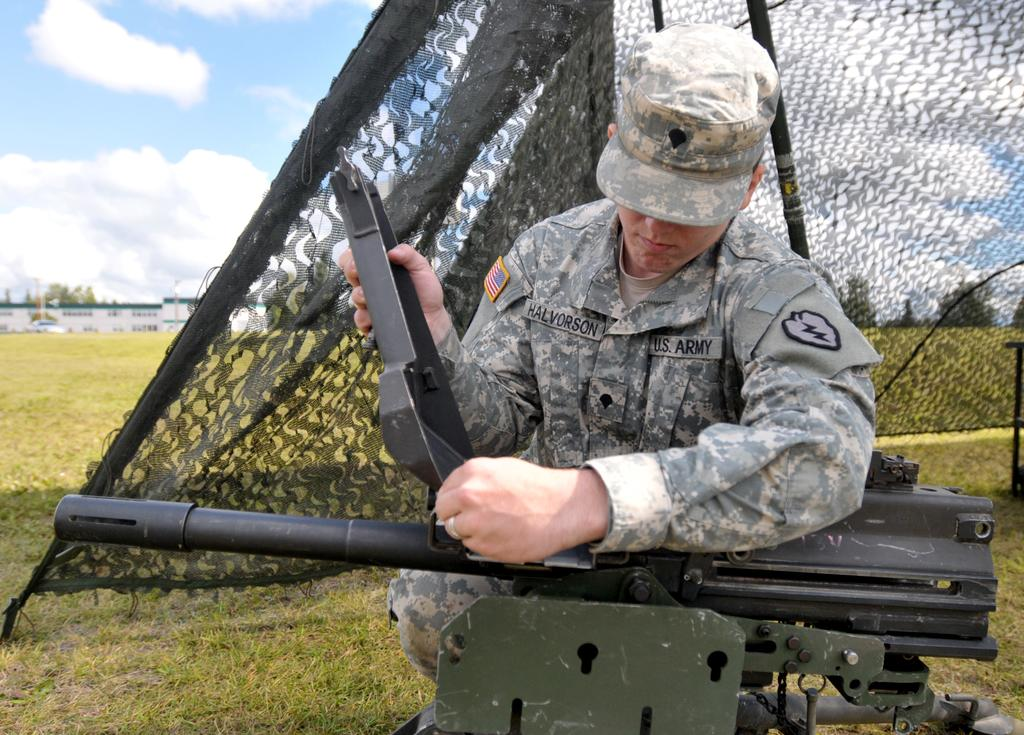Rifle: (64, 263, 941, 706)
